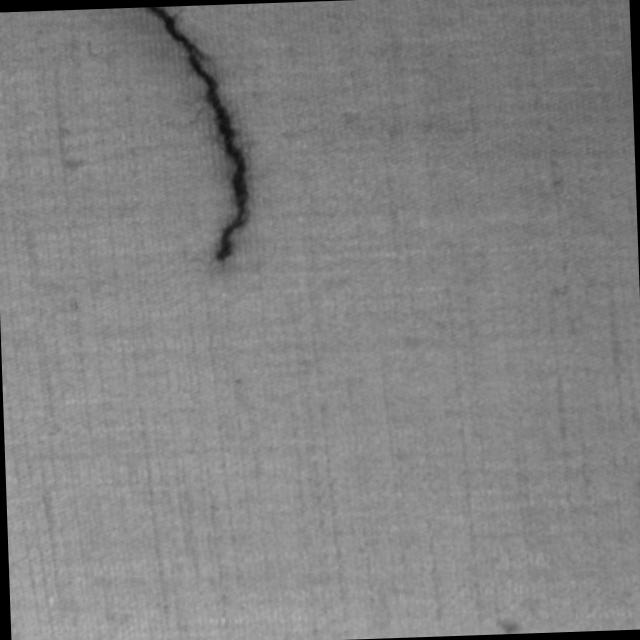Thread: (134, 2, 256, 268)
